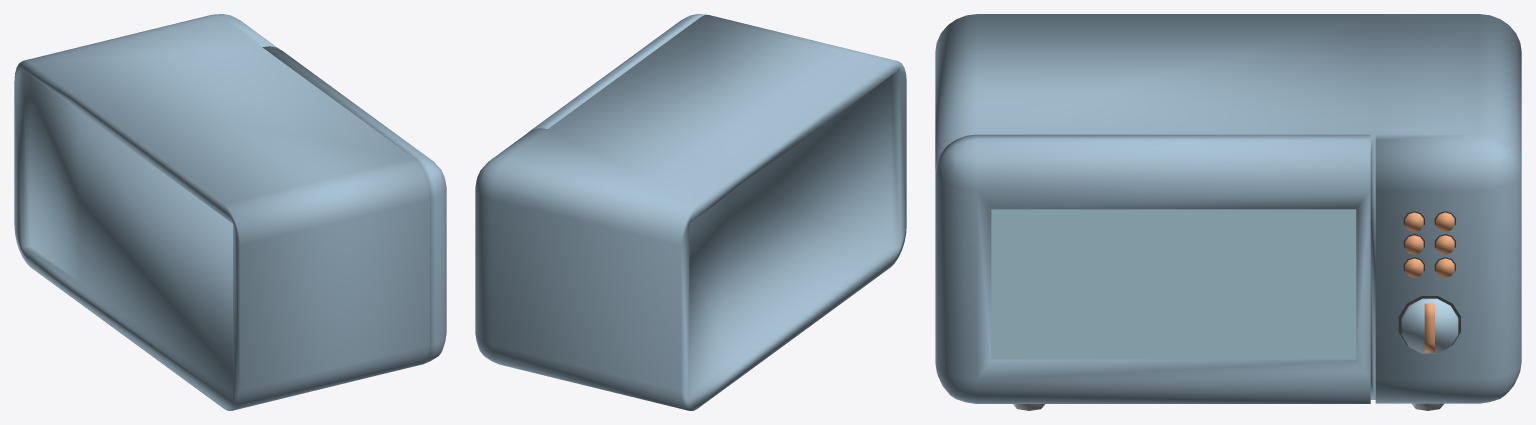
The model's file is микроваве.fbx.
The picture shows the model from 3 angles, left to right: view 1: azimuth 30°, elevation 25°; view 2: azimuth 150°, elevation 25°; view 3: azimuth 270°, elevation 25°; orthographic projection. The views are drawn at different scales.
Visible parts, largest first — view 1: Microwave.B; view 2: Microwave.B; view 3: Microwave.B.
Part boxes in pixels (box(x1,y1,x2,y2)): Microwave.B: box(14, 14, 446, 410); Microwave.B: box(475, 14, 906, 410); Microwave.B: box(935, 14, 1521, 410).
Bounding box in the file's own units: 38.85 × 35.62 × 66.79.
1 material, 1 textured.
